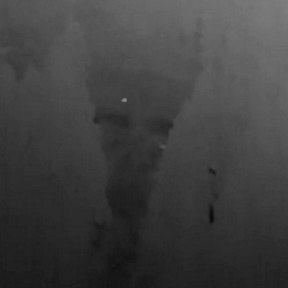Target: (121, 98, 128, 103)
